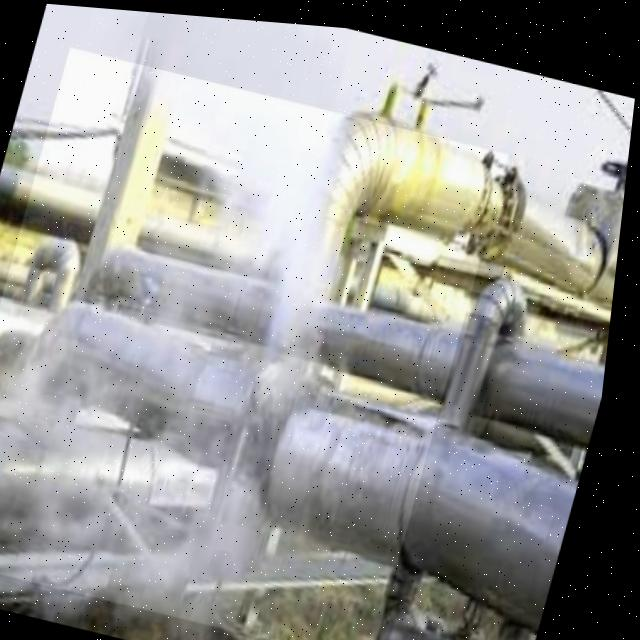corrosion: (0, 48, 509, 640)
